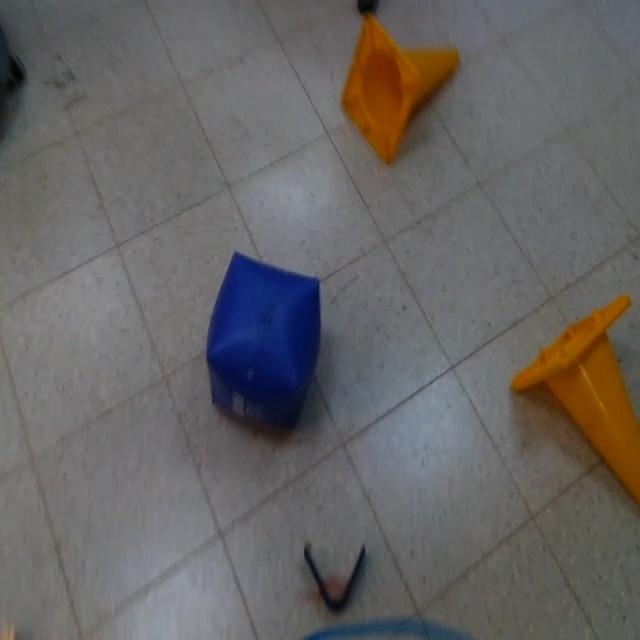cone: (511, 292, 640, 517), (343, 15, 459, 168)
cube: (208, 253, 324, 441)
